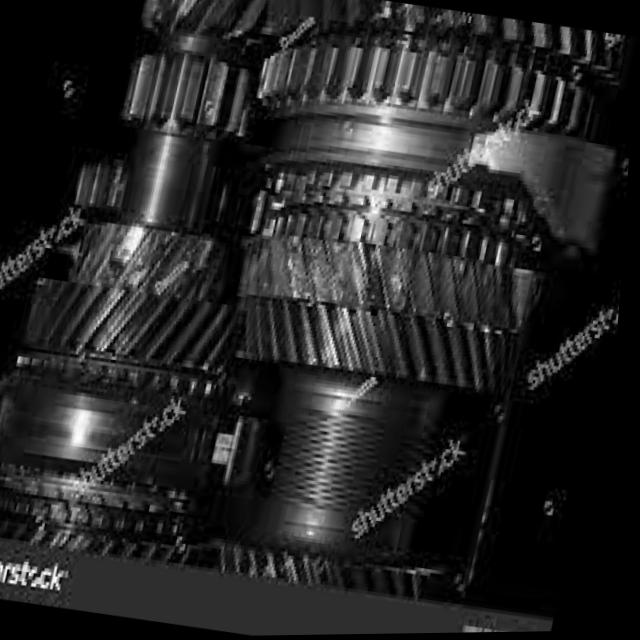Fault-Exist: (249, 226, 552, 339), (263, 170, 567, 272), (66, 212, 233, 303)
No Fault: (273, 41, 603, 145), (132, 53, 251, 136)
